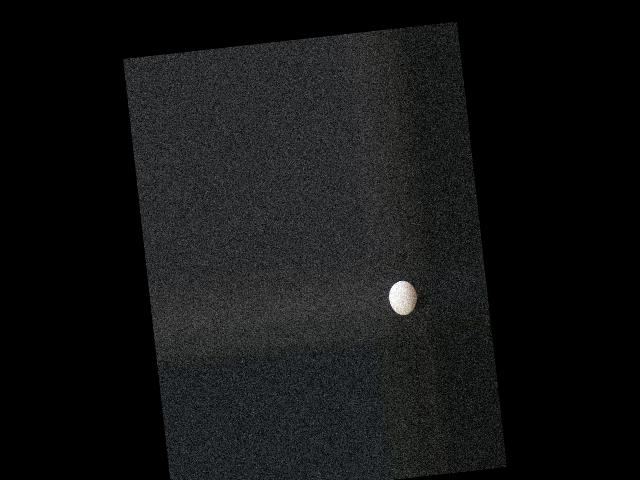egg: (387, 280, 418, 317)
